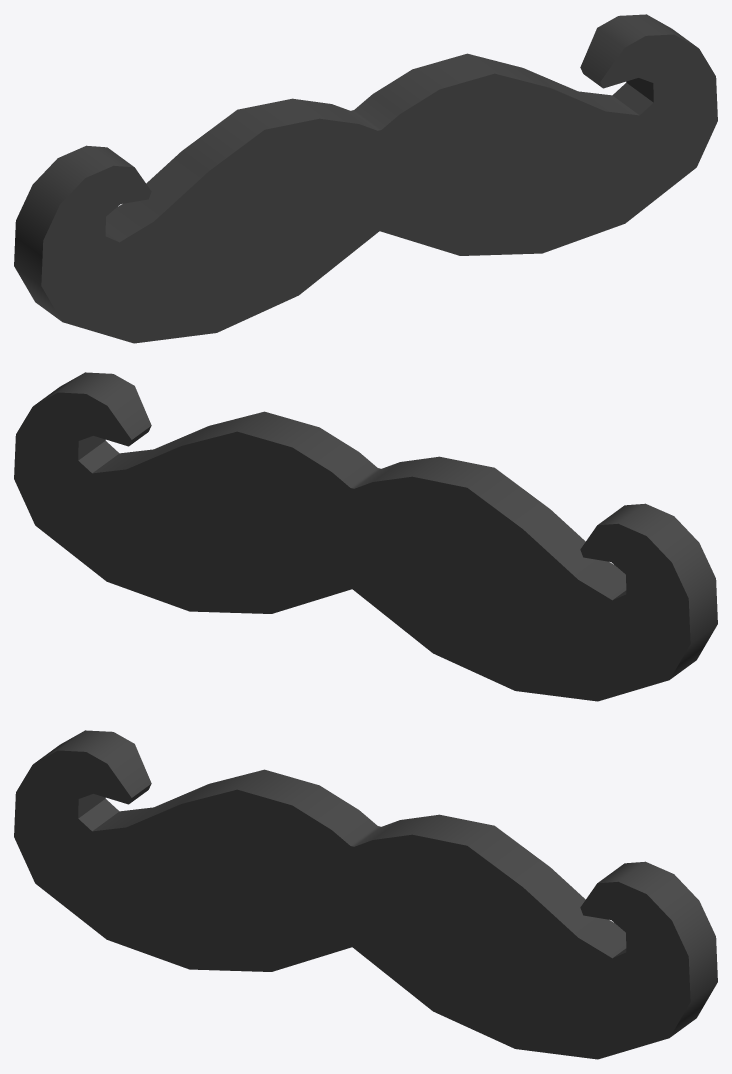
The model's file is Mustache_1.fbx.
The picture shows the model from 3 angles, top to bottom: view 1: azimuth 30°, elevation 25°; view 2: azimuth 150°, elevation 25°; view 3: azimuth 330°, elevation 25°; orthographic projection.
Parts seen in each view (by area): view 1: Mustache_1; view 2: Mustache_1; view 3: Mustache_1.
Boxes of the visible parts, x1,y1,x2,y2 form: Mustache_1: (14,14,717,343); Mustache_1: (14,372,717,701); Mustache_1: (14,730,717,1059).
Bounding box in the file's own units: 0.2401 × 0.0652 × 0.0168.
